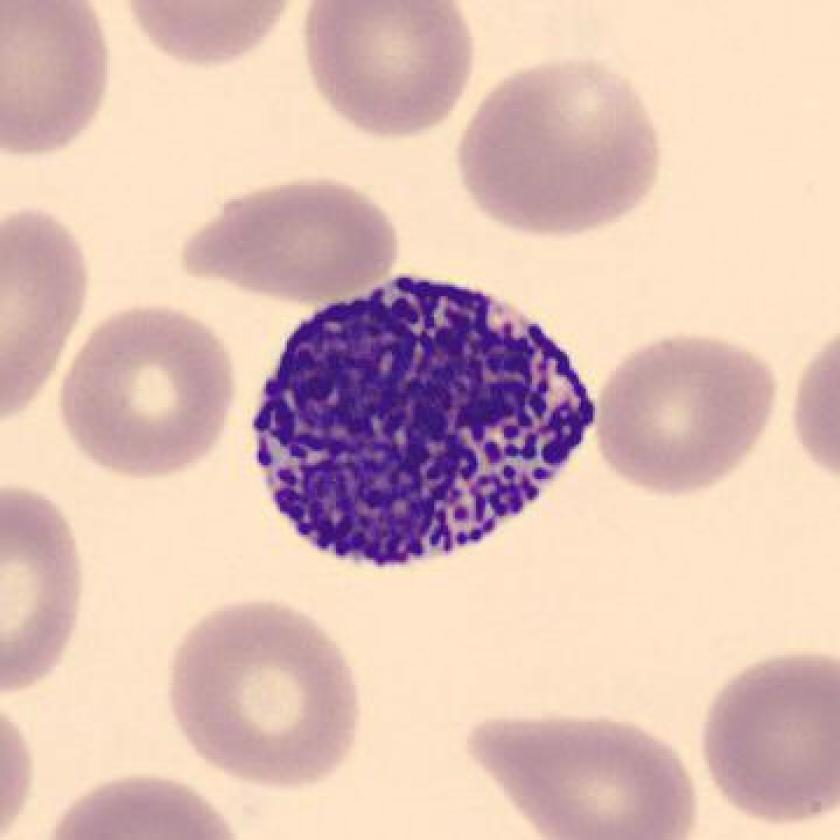basophil: (237, 267, 608, 582)
